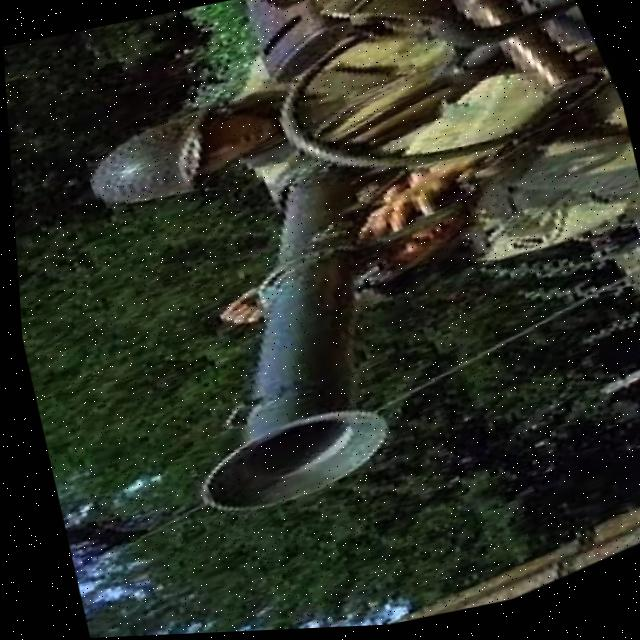rocket: (62, 142, 478, 556)
